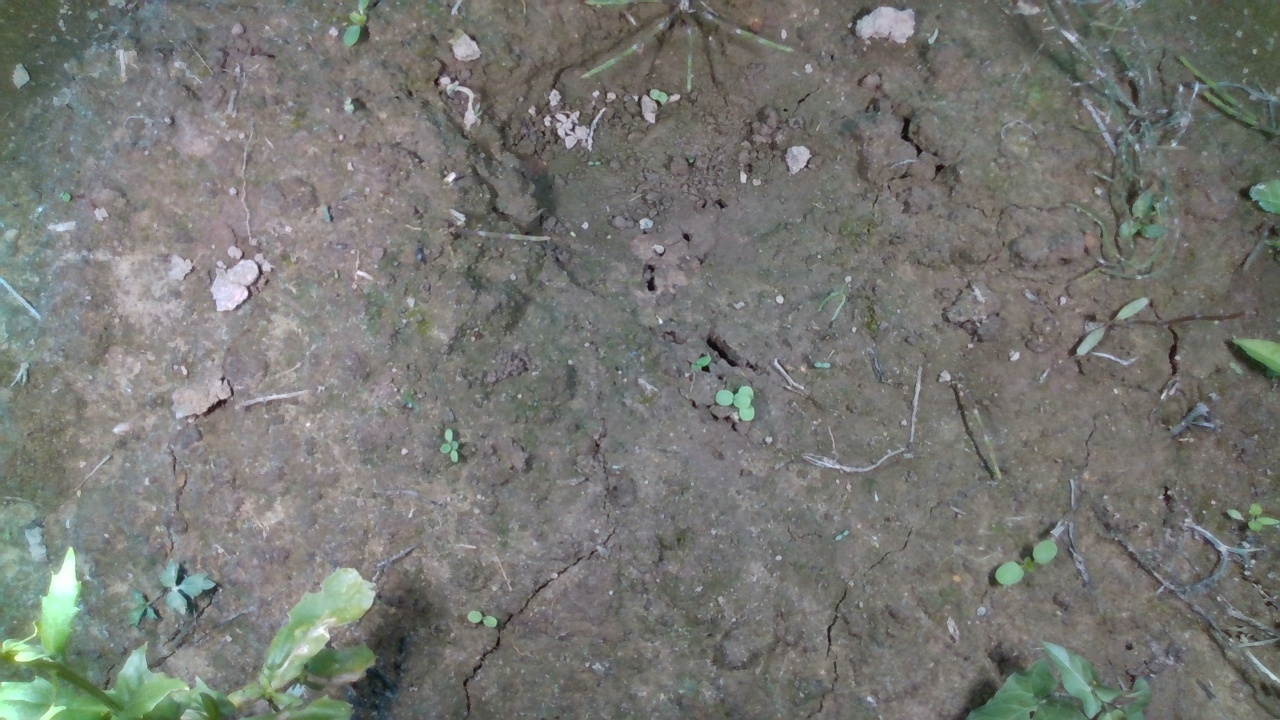weed: (1072, 297, 1150, 357), (993, 538, 1059, 585), (437, 423, 477, 465), (464, 607, 510, 636), (812, 357, 852, 372)
